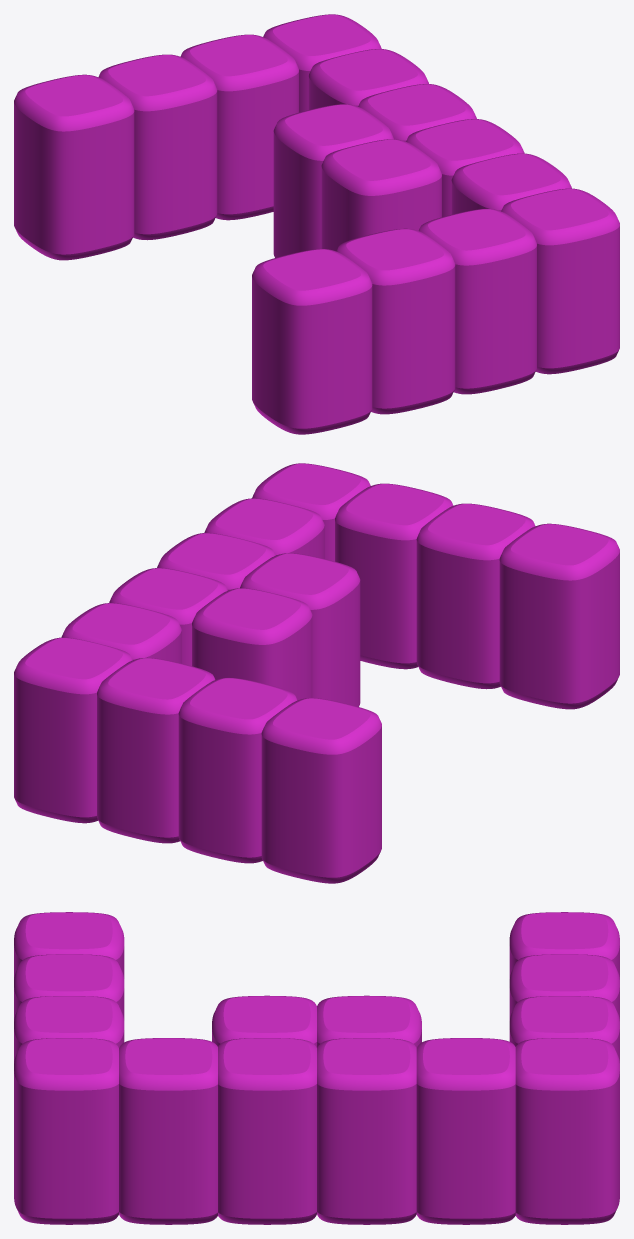
Rendered from Letter_E.fbx.
The picture shows the model from 3 angles, top to bottom: view 1: azimuth 30°, elevation 25°; view 2: azimuth 150°, elevation 25°; view 3: azimuth 270°, elevation 25°; orthographic projection. The views are drawn at different scales.
Parts seen in each view (by area): view 1: Letter_E; view 2: Letter_E; view 3: Letter_E.
Boxes of the visible parts, bbox=[...] form: Letter_E: bbox=[14, 14, 619, 434]; Letter_E: bbox=[14, 463, 619, 883]; Letter_E: bbox=[14, 912, 619, 1224].
Size of the model in its own units: 0.3465 by 0.14 by 0.5146.
